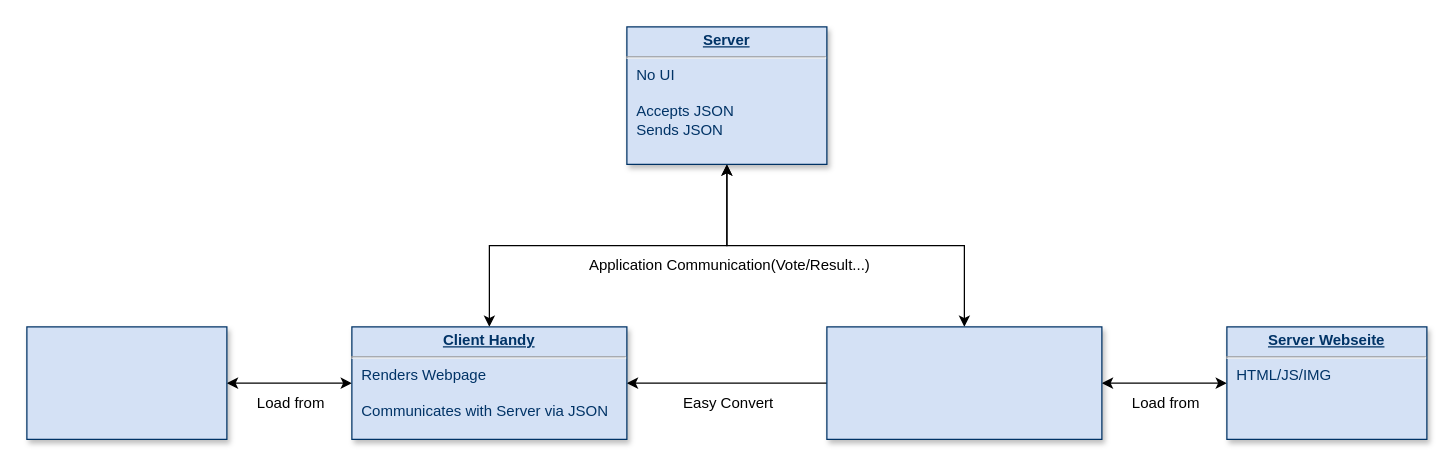
Some shapes in this 1456 by 470 pixel diagram are drawn without their labels. The shapes that lost their labels are listed below. From the top down, each one's centre as x and y in pixels, then its label:
(x=127, y=384): Handy Storage HTML/JS/IMG
(x=965, y=384): Client Web Renders Webpage Communicates with Server via JSON
